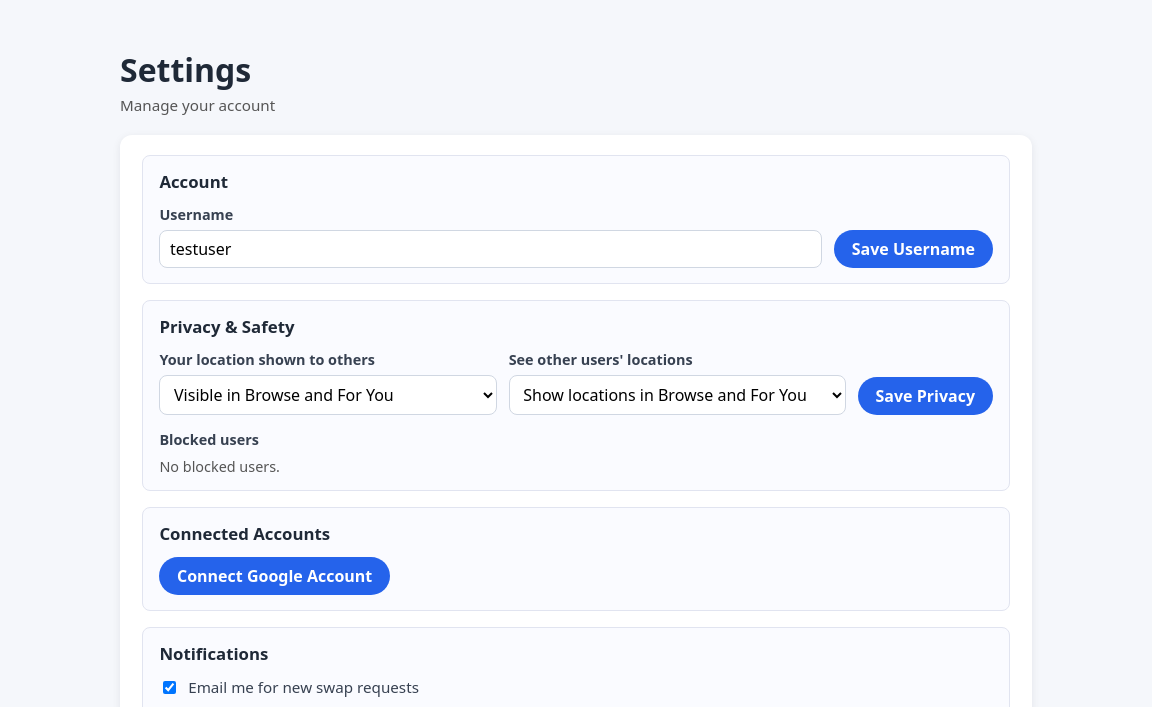
Test: Settings Page › saves location privacy settings for self and others visibility
The image size is (1152, 707).
Expected: the heading "Settings" is shown, x1=120 y1=48 x2=251 y2=91
Select "Hidden in Browse and For You" in the dropdown showing "Visible in Browse and For You" below "Your location shown to others" at (328, 395), box x1=159 y1=375 x2=497 y2=415
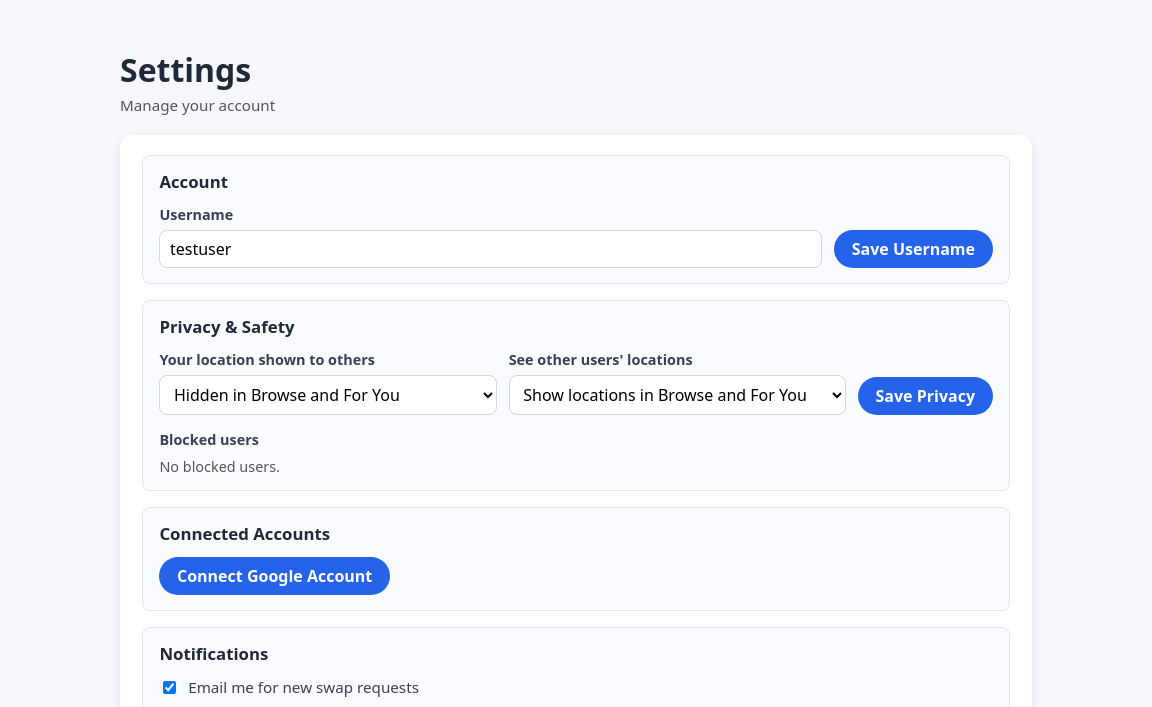
Select "Hide locations in Browse and For You" in the dropdown showing "Show locations in Browse and For You" below "See other users' locations" at (677, 395), box x1=509 y1=375 x2=846 y2=415
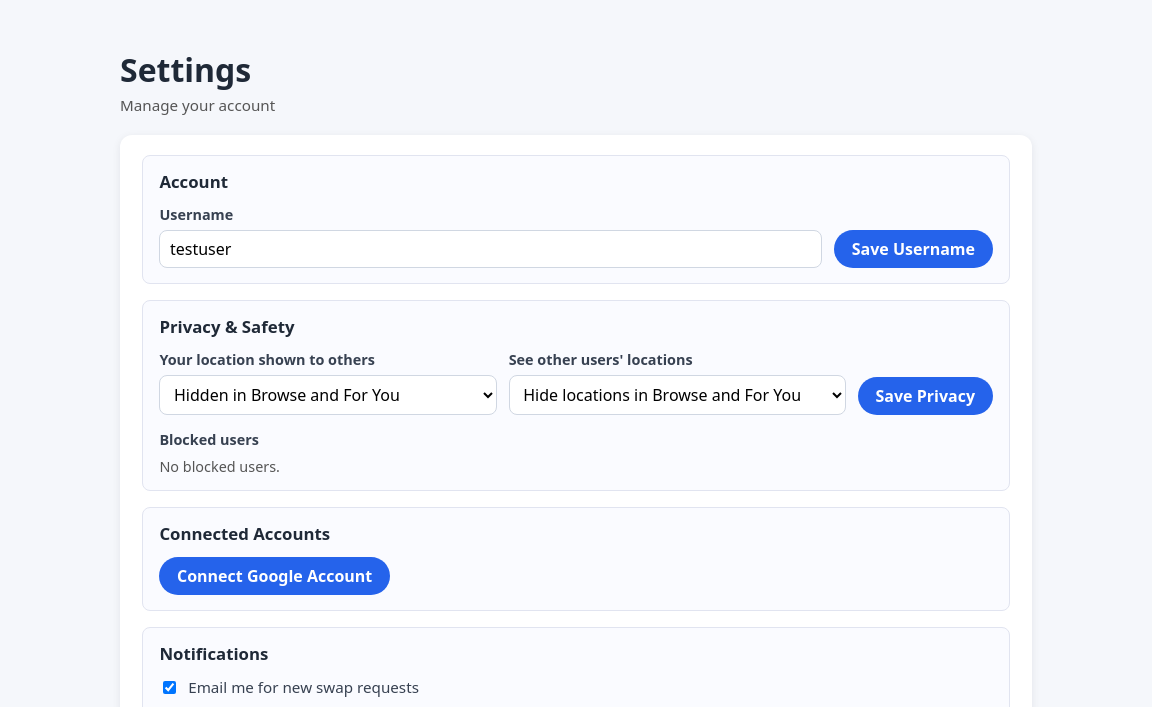
Click the button "Save Privacy" at (925, 396), box x1=858 y1=377 x2=993 y2=415
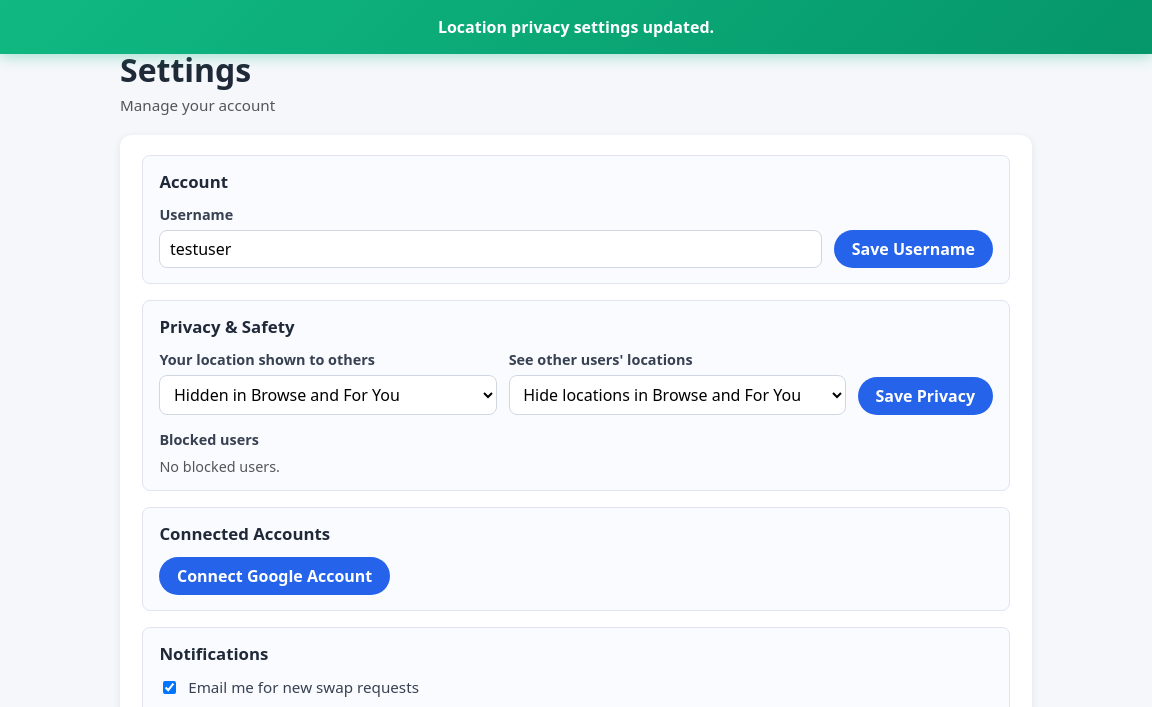
Result: the text "Location privacy settings updated." is shown at x1=0 y1=0 x2=1151 y2=54
